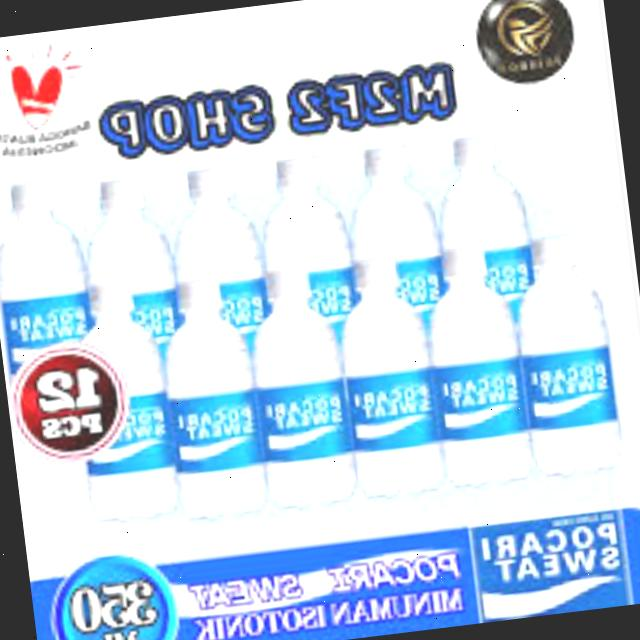trash: (502, 227, 630, 483), (414, 241, 538, 494), (240, 261, 360, 513), (152, 273, 270, 522), (63, 274, 179, 526), (332, 250, 447, 502), (0, 171, 106, 408), (70, 168, 186, 382), (160, 159, 276, 365), (250, 150, 364, 356), (430, 128, 540, 336), (344, 140, 452, 348)
